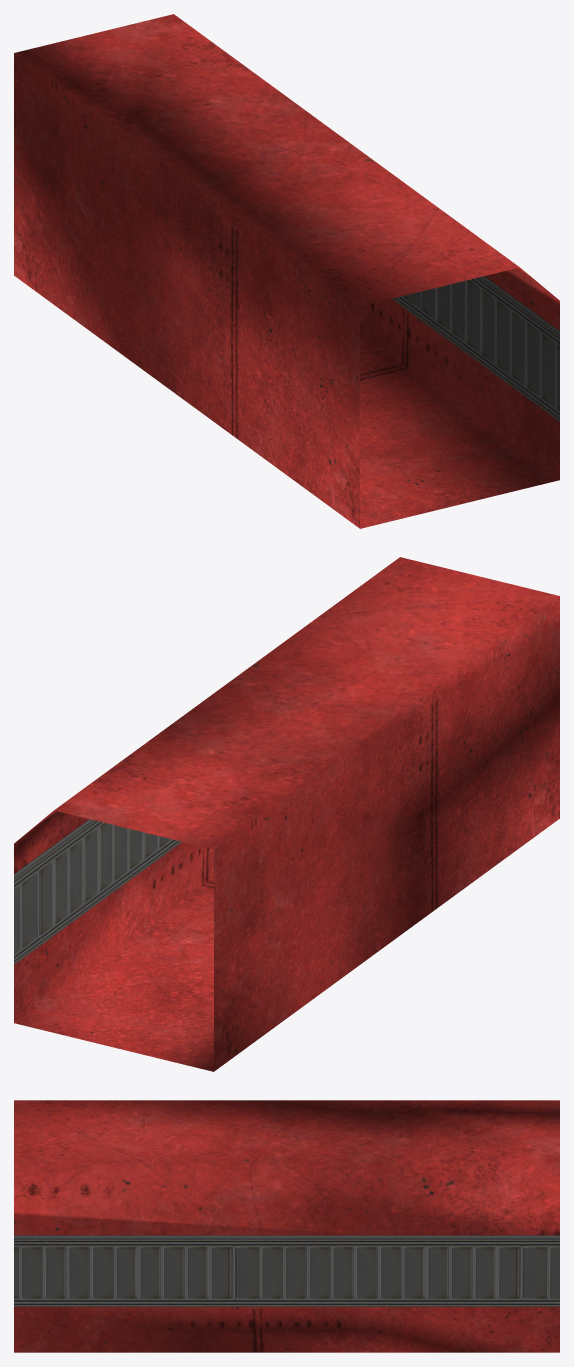
File: Ob_RedBarrierStraight_RC.fbx
The picture shows the model from 3 angles, top to bottom: view 1: azimuth 30°, elevation 25°; view 2: azimuth 150°, elevation 25°; view 3: azimuth 270°, elevation 25°; orthographic projection. The views are drawn at different scales.
Visible parts, largest first — view 1: Ob_RedBarrierStraight_RC; view 2: Ob_RedBarrierStraight_RC; view 3: Ob_RedBarrierStraight_RC.
Part boxes in pixels (bbox=[...]): Ob_RedBarrierStraight_RC: bbox=[14, 14, 559, 528]; Ob_RedBarrierStraight_RC: bbox=[14, 557, 559, 1071]; Ob_RedBarrierStraight_RC: bbox=[14, 1100, 559, 1352].
Bounding box in the file's own units: 500 × 532 × 1500.
